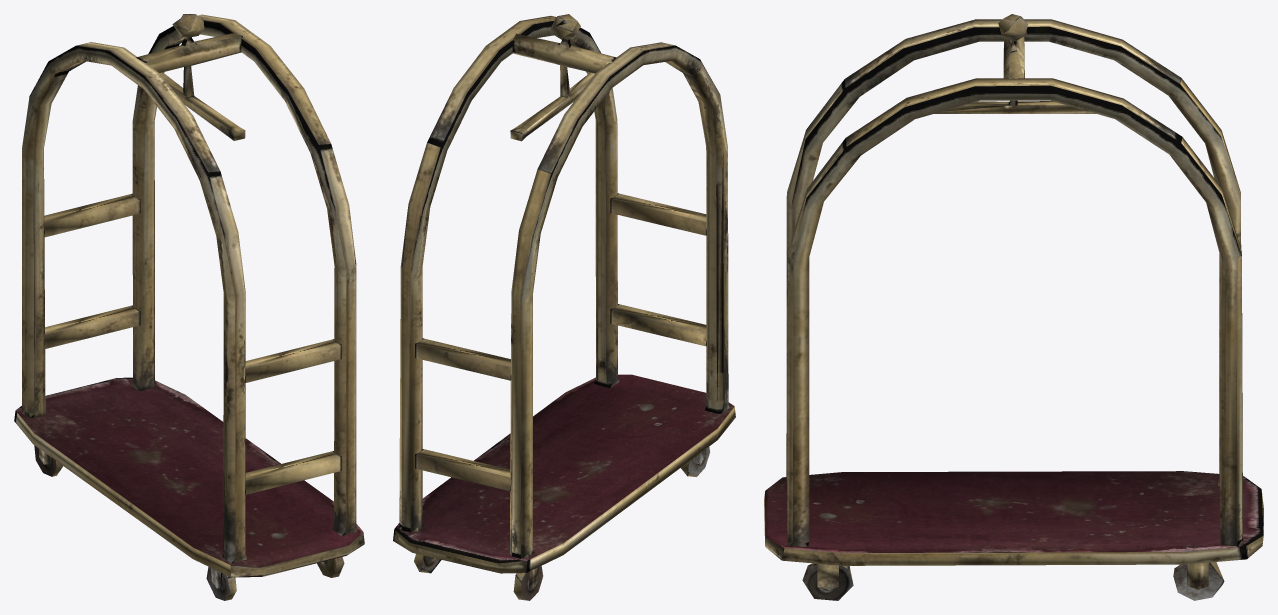
File: TrollyBrkn.fbx
3 views of the same model, side by side, from view 1: azimuth 30°, elevation 25°; view 2: azimuth 150°, elevation 25°; view 3: azimuth 270°, elevation 25° (orthographic). The views are drawn at different scales.
Visible parts, largest first — view 1: Trolly; view 2: Trolly; view 3: Trolly.
Part boxes in pixels (bbox=[...]): Trolly: bbox=[14, 14, 364, 600]; Trolly: bbox=[393, 14, 735, 600]; Trolly: bbox=[764, 14, 1263, 600].
Size of the model in its own units: 70 by 220 by 180.
1 material, 1 textured.
